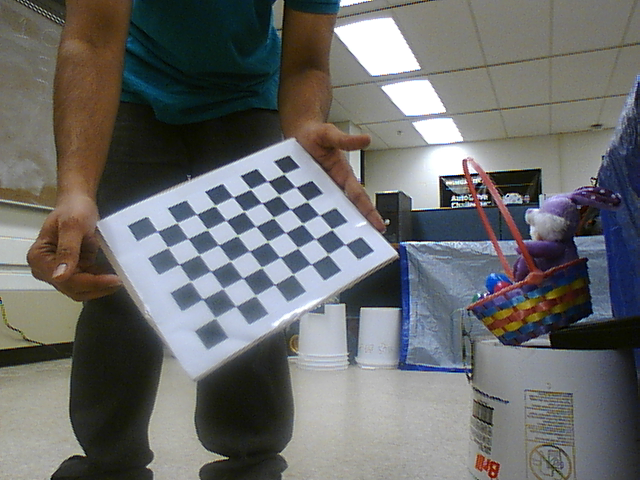bunny: (454, 149, 604, 343)
